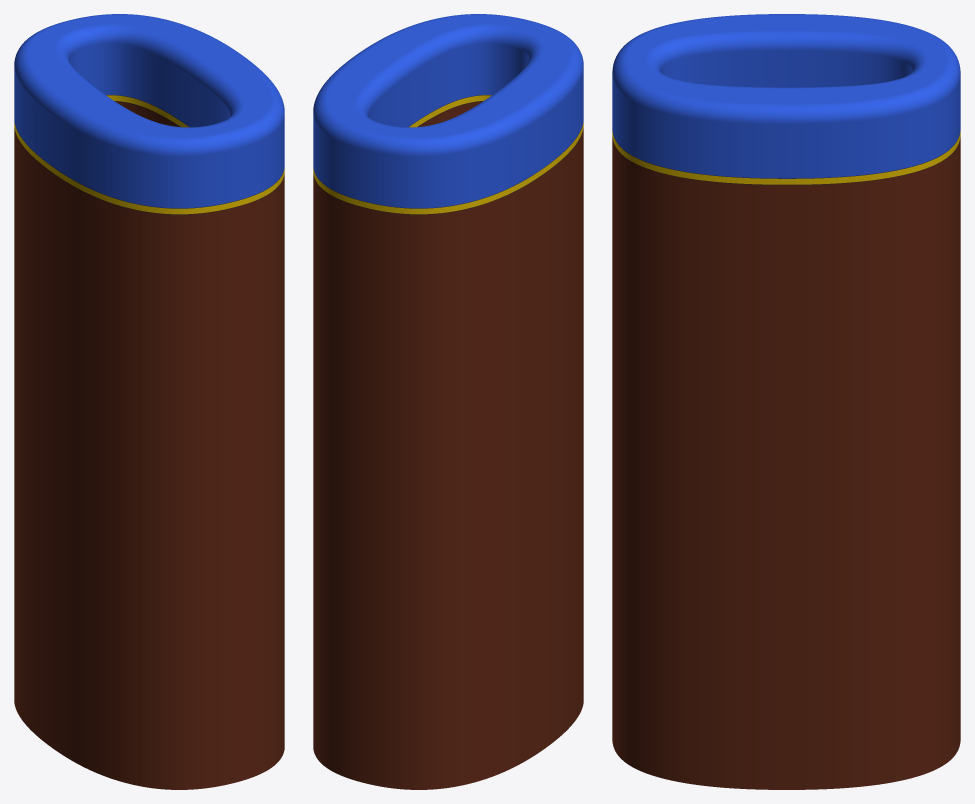
File: Zero.fbx
The picture shows the model from 3 angles, left to right: view 1: azimuth 30°, elevation 25°; view 2: azimuth 150°, elevation 25°; view 3: azimuth 270°, elevation 25°; orthographic projection. The views are drawn at different scales.
Parts seen in each view (by area): view 1: 0; view 2: 0; view 3: 0.
Boxes of the visible parts, x1,y1,x2,y2 form: 0: (14, 14, 284, 789); 0: (313, 14, 583, 789); 0: (612, 14, 960, 789).
Bounding box in the file's own units: 31.99 × 100 × 46.45.
